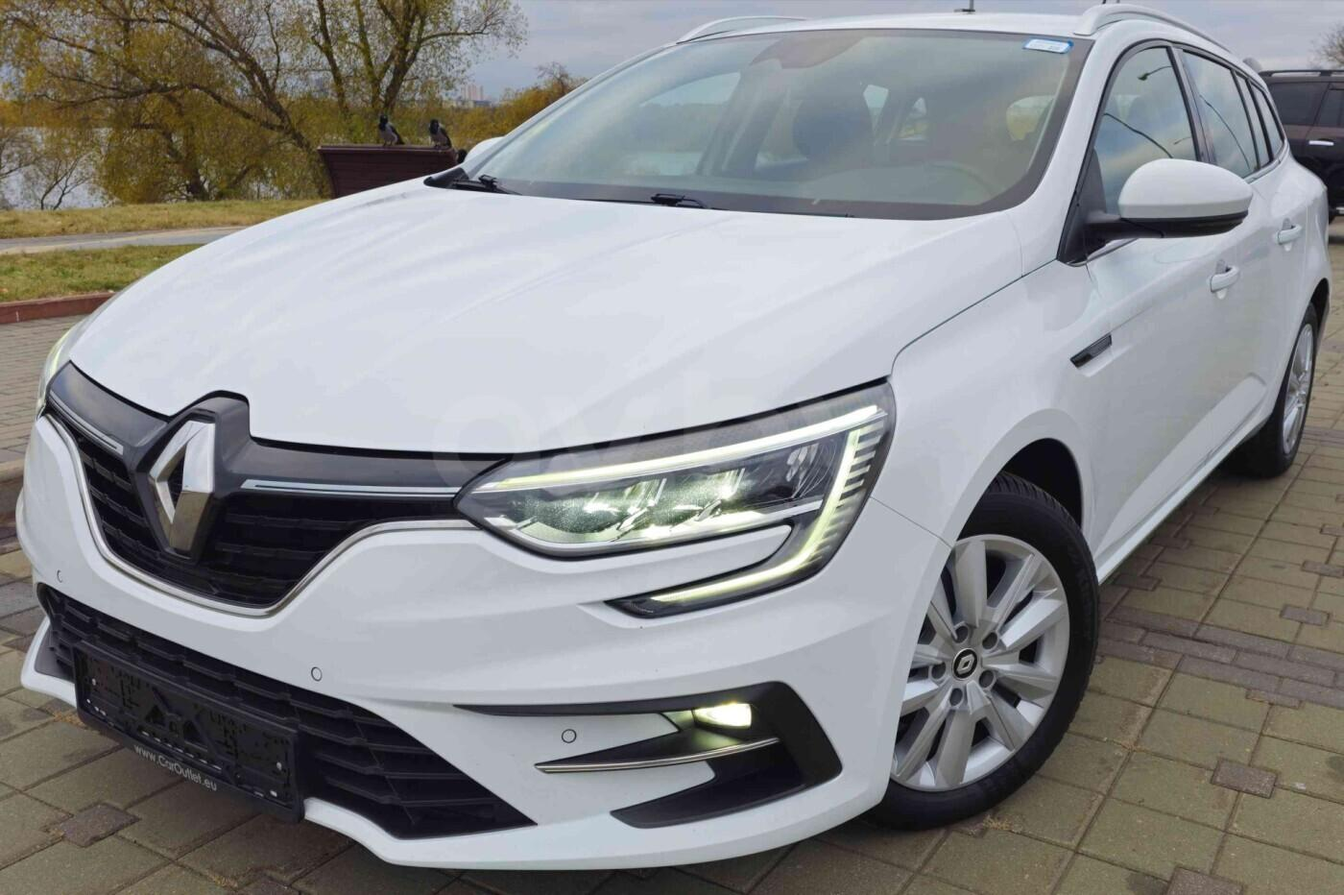Megane_2020: (0, 11, 1334, 861)
